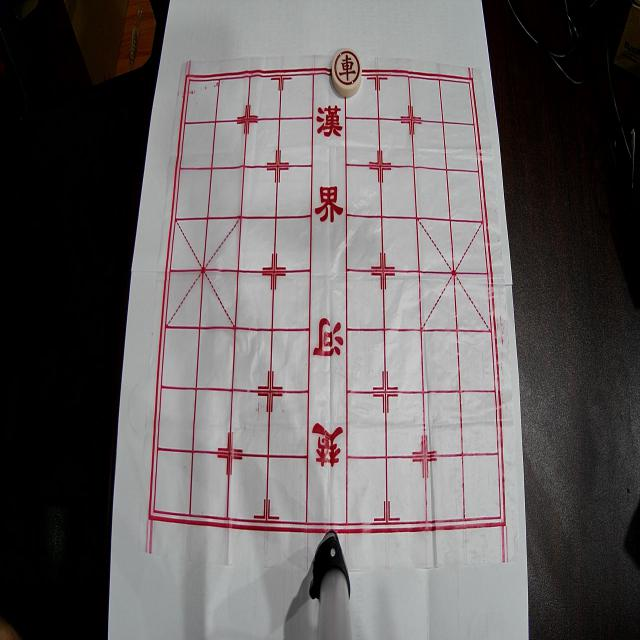red-chariot: (332, 48, 362, 97)
